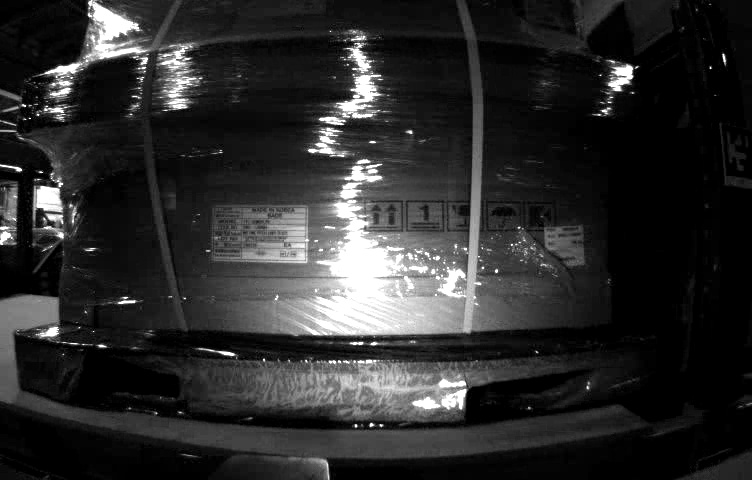True Barcode: (543, 225, 585, 265)
